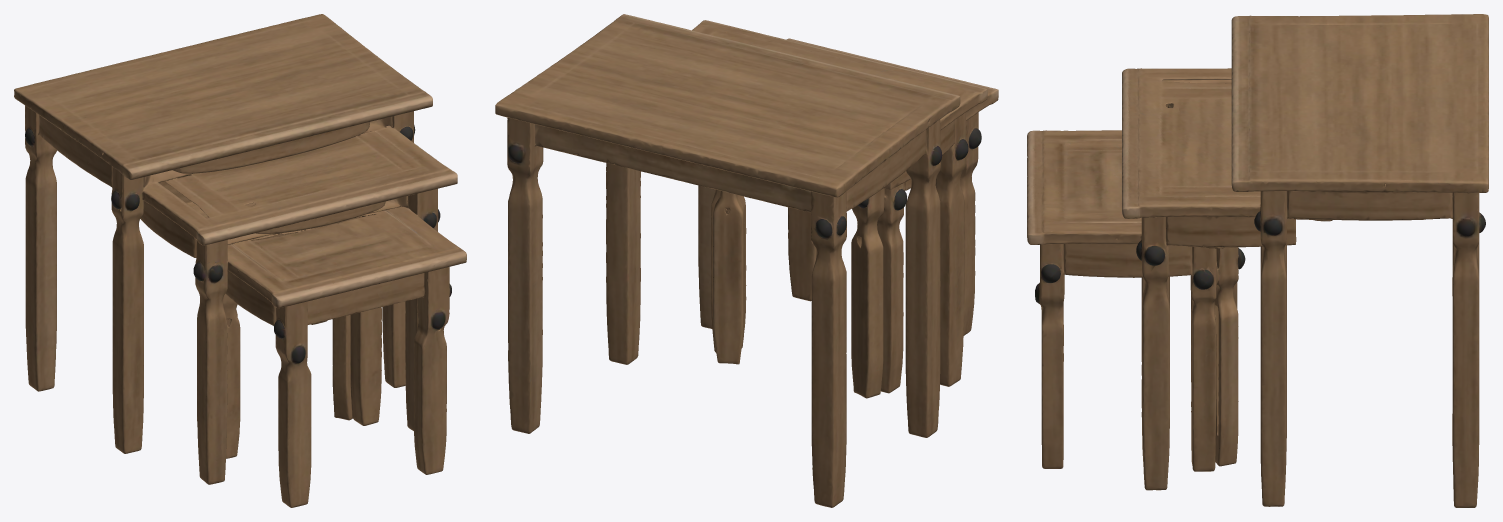
3 views of the same model, side by side, from view 1: azimuth 30°, elevation 25°; view 2: azimuth 150°, elevation 25°; view 3: azimuth 270°, elevation 25° (orthographic). The views are drawn at different scales.
Visible parts, largest first — view 1: geometry_0; view 2: geometry_0; view 3: geometry_0.
Boxes of the visible parts, left/top/right/bottom form: geometry_0: left=14, top=14, right=466, bottom=507; geometry_0: left=495, top=14, right=998, bottom=507; geometry_0: left=1027, top=14, right=1488, bottom=507.
Bounding box in the file's own units: 0.5121 × 0.4682 × 0.5902.
Materials: 1 (1 with a texture image).
